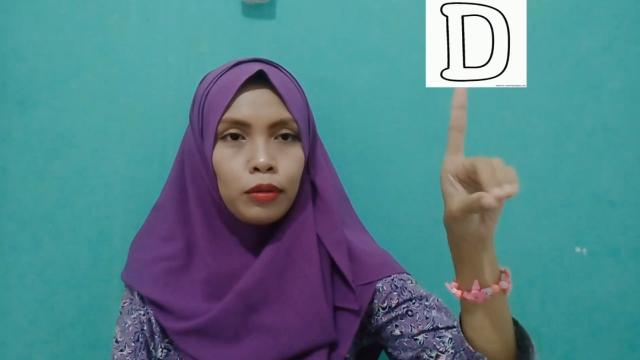D: (434, 88, 520, 248)
